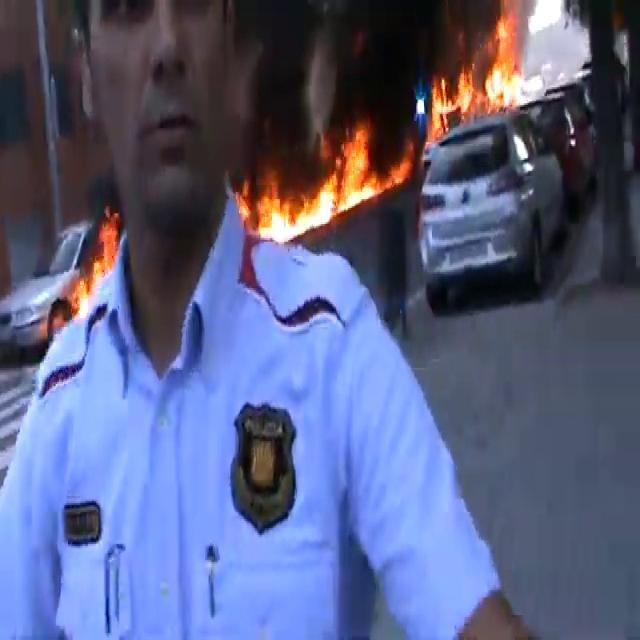Fire: (237, 115, 391, 242), (426, 6, 533, 129), (70, 200, 126, 324)
